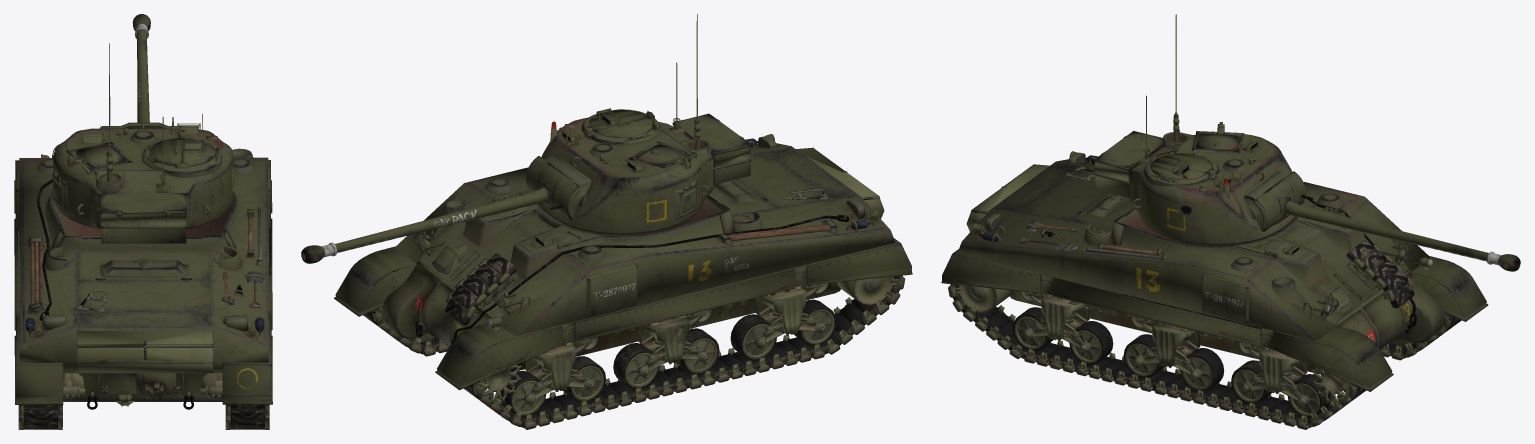
Rendered from sherman_firefly_tank.glb.
The picture shows the model from 3 angles, left to right: view 1: azimuth 30°, elevation 25°; view 2: azimuth 150°, elevation 25°; view 3: azimuth 270°, elevation 25°; orthographic projection. The views are drawn at different scales.
Parts seen in each view (by area): view 1: Object_9, Object_77, Object_7, Object_5, Object_41, Object_75, Object_47; view 2: Object_9, Object_77, Object_5, Object_47, Object_41, Object_75, Object_7, Object_49, Object_35, Object_53; view 3: Object_9, Object_77, Object_5, Object_47, Object_41, Object_75, Object_49, Object_7, Object_35, Object_53.
Part boxes in pixels (box(x1,y1,x2,y2)): Object_9: box(16, 144, 270, 406); Object_77: box(52, 43, 233, 243); Object_7: box(26, 179, 263, 409); Object_5: box(14, 160, 272, 404); Object_41: box(18, 404, 269, 429); Object_75: box(99, 14, 178, 128); Object_47: box(63, 373, 230, 412); Object_9: box(381, 134, 895, 372); Object_77: box(537, 14, 751, 234); Object_5: box(334, 238, 912, 390); Object_47: box(375, 276, 894, 404); Object_41: box(363, 275, 905, 429); Object_75: box(301, 156, 582, 263); Object_7: box(415, 138, 884, 343); Object_49: box(613, 306, 825, 389); Object_35: box(445, 253, 516, 325); Object_53: box(412, 333, 546, 417); Object_9: box(957, 151, 1444, 374); Object_77: box(1094, 14, 1295, 244); Object_5: box(941, 249, 1488, 391); Object_47: box(958, 285, 1447, 405); Object_41: box(948, 284, 1461, 429); Object_75: box(1252, 171, 1520, 271); Object_49: box(1023, 313, 1224, 391); Object_7: box(966, 155, 1416, 333); Object_35: box(1346, 240, 1414, 308); Object_53: box(1287, 337, 1414, 417).
Bounding box in the file's own units: 0.6686 × 0.5114 × 0.8573.
10 materials, 10 textured.
